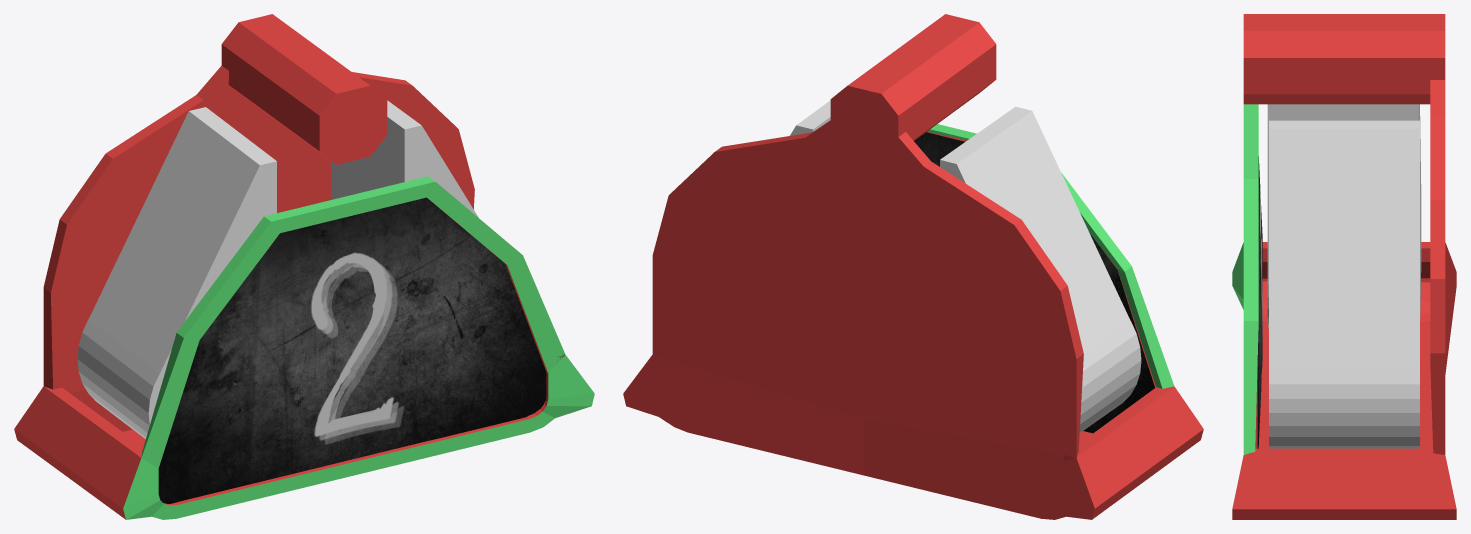
File: Denchyu2.fbx
3 renders of one model, left to right at view 1: azimuth 30°, elevation 25°; view 2: azimuth 150°, elevation 25°; view 3: azimuth 270°, elevation 25°, orthographic. The views are drawn at different scales.
Visible parts, largest first — view 1: Base, Wing, Wing.002; view 2: Base, Wing, Wing.002; view 3: Base, Wing.002, Wing.
Part boxes in pixels (x1=…): Base: x1=14, y1=14, x2=594, y2=519; Wing: x1=77, y1=107, x2=276, y2=439; Wing.002: x1=331, y1=100, x2=478, y2=217; Base: x1=623, y1=14, x2=1203, y2=519; Wing: x1=940, y1=106, x2=1141, y2=432; Wing.002: x1=790, y1=100, x2=830, y2=135; Base: x1=1232, y1=14, x2=1456, y2=519; Wing.002: x1=1269, y1=120, x2=1419, y2=448; Wing: x1=1267, y1=104, x2=1421, y2=328.
Size of the model in its own units: 5.56 by 4.35 by 2.23.
3 materials, 1 textured.
